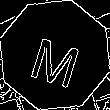M_N: (26, 24, 84, 86)
